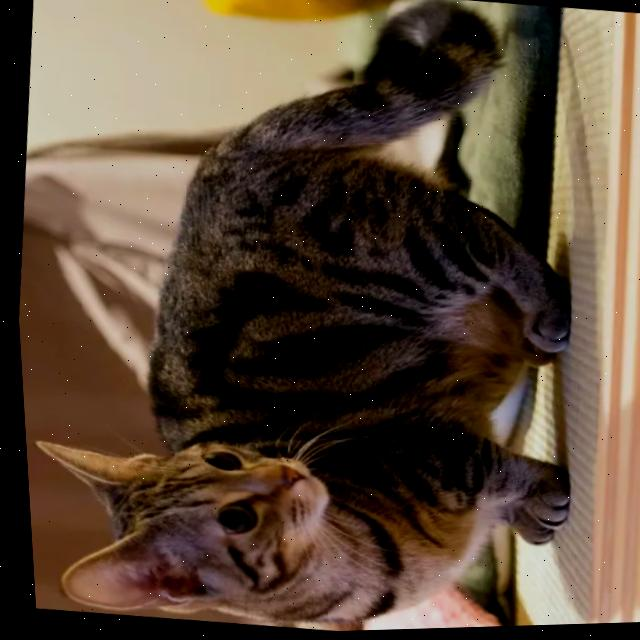Munchkin: (0, 0, 627, 640)
